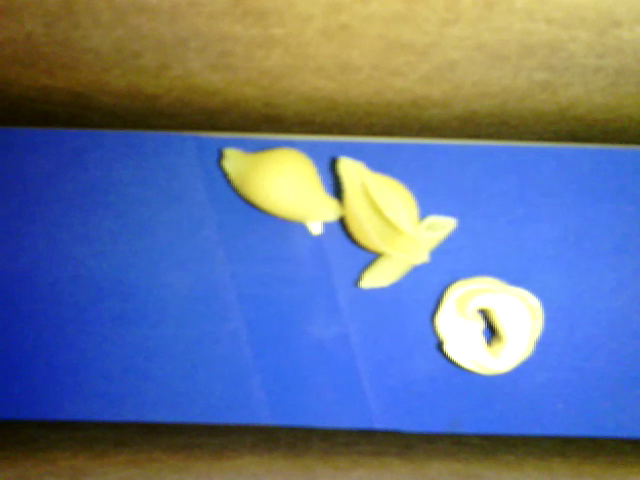penne: (357, 213, 457, 289)
shell: (335, 154, 430, 264), (221, 147, 342, 224)
tortellini: (434, 275, 544, 374)
